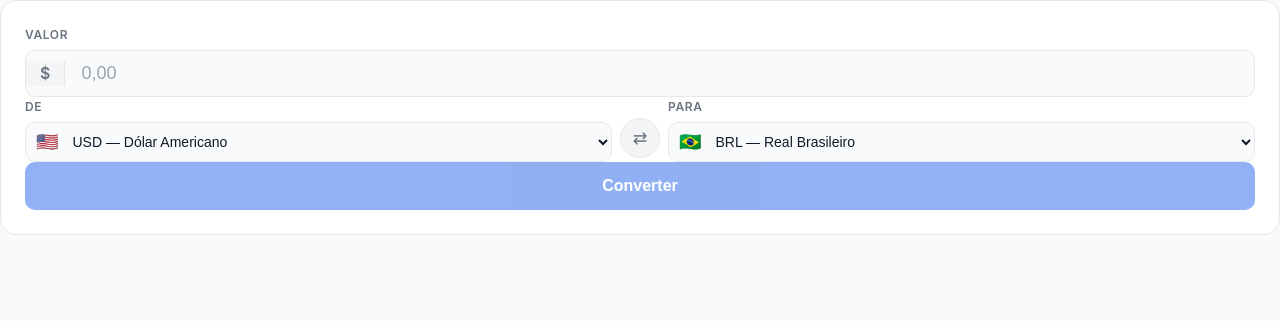
Scenario: Conversor › estado de erro › esconde o erro ao inverter as moedas
The width and height of the screenshot is (1280, 321).
Type "100" into the field with placeholder "0,00" at point(660, 74), box [65,51,1254,96]
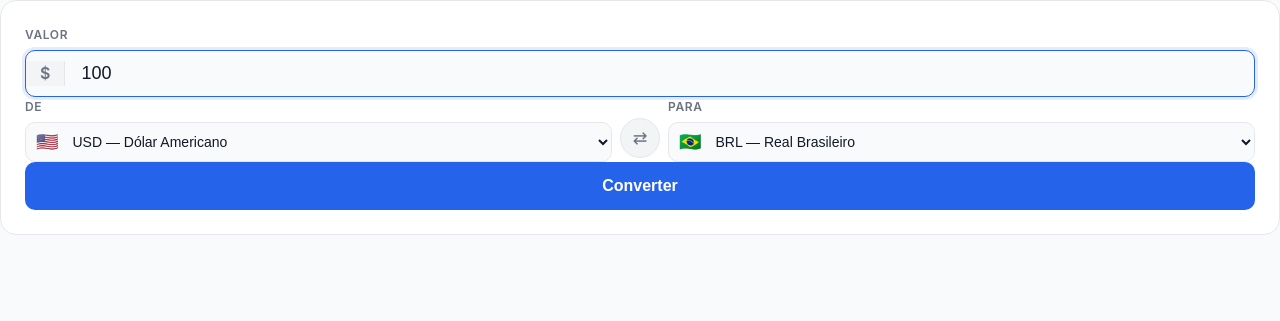
Click the button "Converter" at point(640, 186), box [25,162,1255,210]
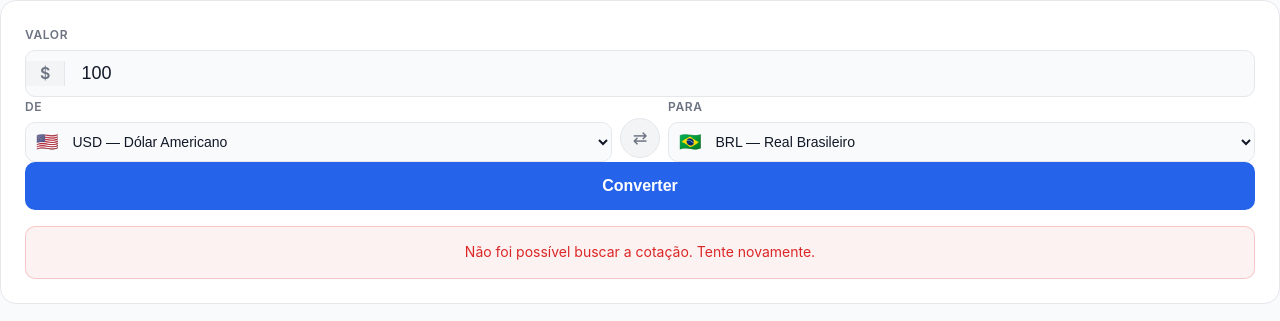
Now the message "Não foi possível buscar a cotação. Tente novamente." is shown, box [25,226,1255,279]
Click the button named "inverter moedas" at point(640, 138), box [620,118,660,158]
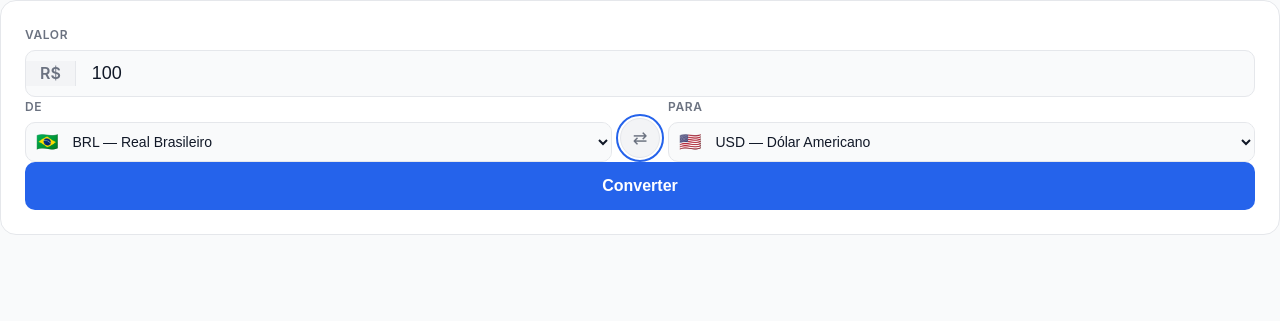
Now the message "Não foi possível buscar a cotação. Tente novamente." is gone
